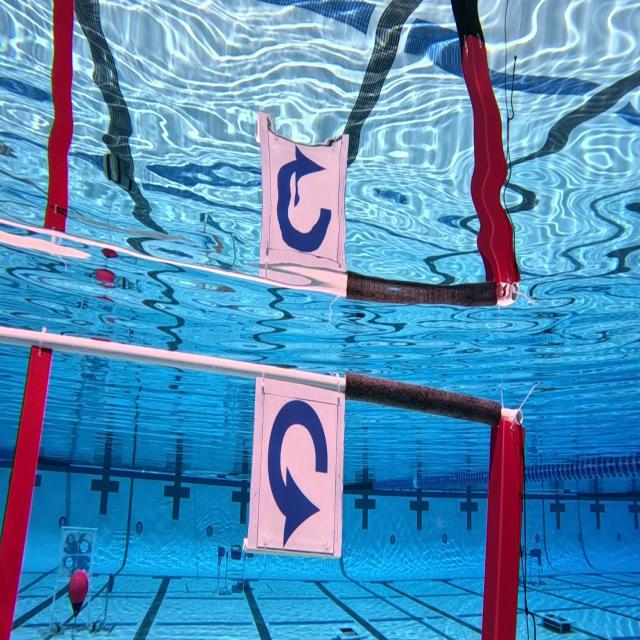blue_side: (244, 372, 345, 570)
